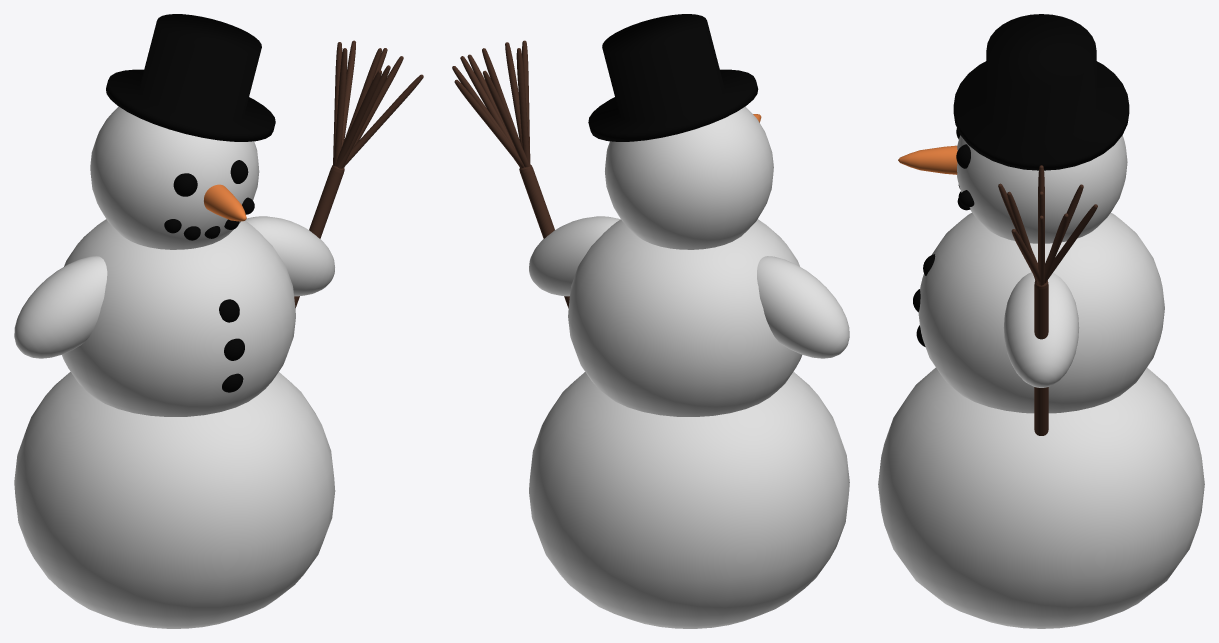
File: Schneemann.fbx
3 views of the same model, side by side, from view 1: azimuth 30°, elevation 25°; view 2: azimuth 150°, elevation 25°; view 3: azimuth 270°, elevation 25° (orthographic).
Parts seen in each view (by area): view 1: Sphere; view 2: Sphere; view 3: Sphere.
Boxes of the visible parts, box(x1,y1,x2,y2) form: Sphere: box(14, 14, 423, 628); Sphere: box(452, 14, 849, 628); Sphere: box(878, 14, 1204, 628).
Size of the model in its own units: 282 by 397 by 200.
